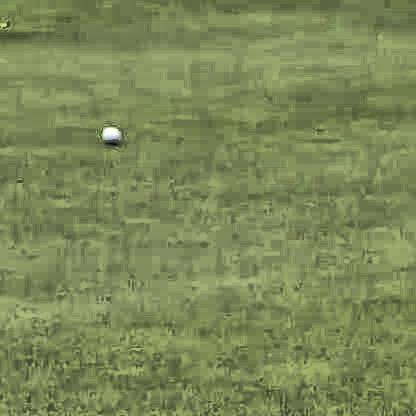golfball: (98, 123, 120, 143)
